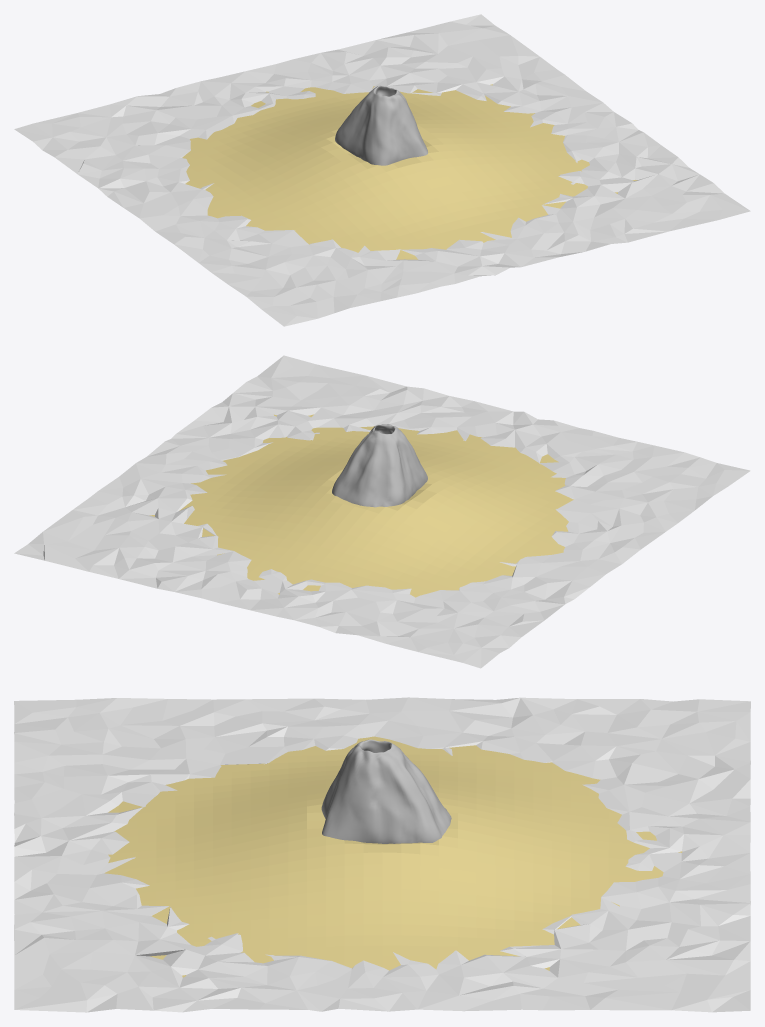
File: VolcAn.fbx
3 renders of one model, top to bottom at view 1: azimuth 30°, elevation 25°; view 2: azimuth 150°, elevation 25°; view 3: azimuth 270°, elevation 25°, orthographic. The views are drawn at different scales.
Visible parts, largest first — view 1: Plane, Plane.001, PolySphere1; view 2: Plane, Plane.001, PolySphere1; view 3: Plane, Plane.001, PolySphere1.
Boxes of the visible parts, x1,y1,x2,y2 form: Plane: (14,14,750,326); Plane.001: (182,84,637,259); PolySphere1: (335,85,427,165); Plane: (14,355,750,668); Plane.001: (149,414,573,597); PolySphere1: (332,424,427,507); Plane: (14,697,750,1012); Plane.001: (104,736,682,977); PolySphere1: (321,739,451,843).
Bounding box in the file's own units: 151 × 26.03 × 151.
